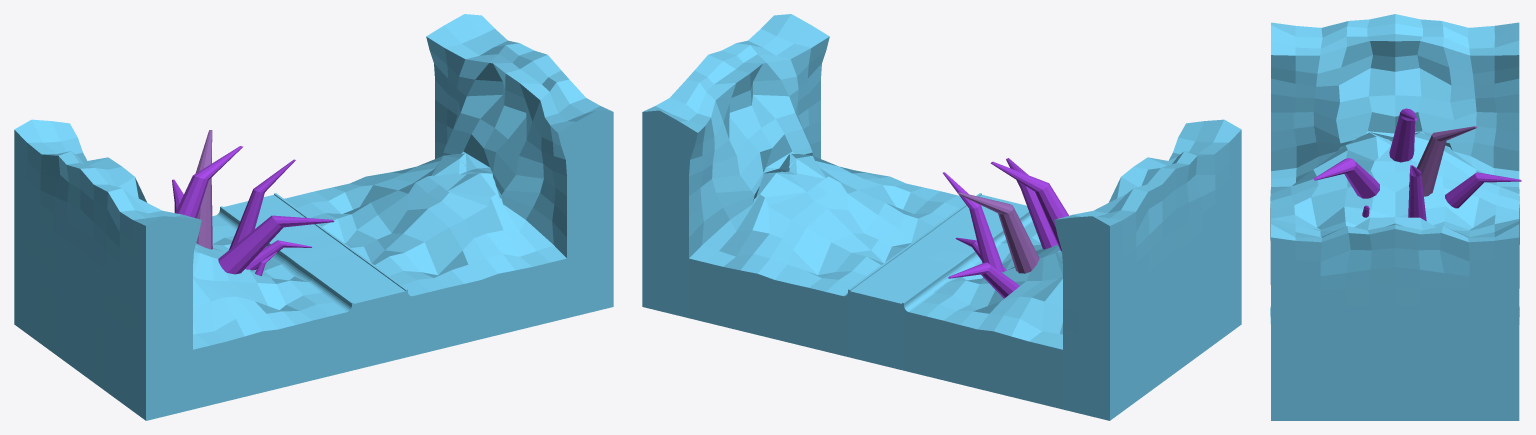
Rendered from level_L5.fbx.
3 views of the same model, side by side, from view 1: azimuth 30°, elevation 25°; view 2: azimuth 150°, elevation 25°; view 3: azimuth 270°, elevation 25° (orthographic). The views are drawn at different scales.
Visible parts, largest first — view 1: Level5; view 2: Level5; view 3: Level5.
Part boxes in pixels (left/top/right/bottom): Level5: left=14, top=14, right=613, bottom=420; Level5: left=642, top=14, right=1241, bottom=420; Level5: left=1270, top=14, right=1521, bottom=420.
Size of the model in its own units: 4915 by 2047 by 2430.
